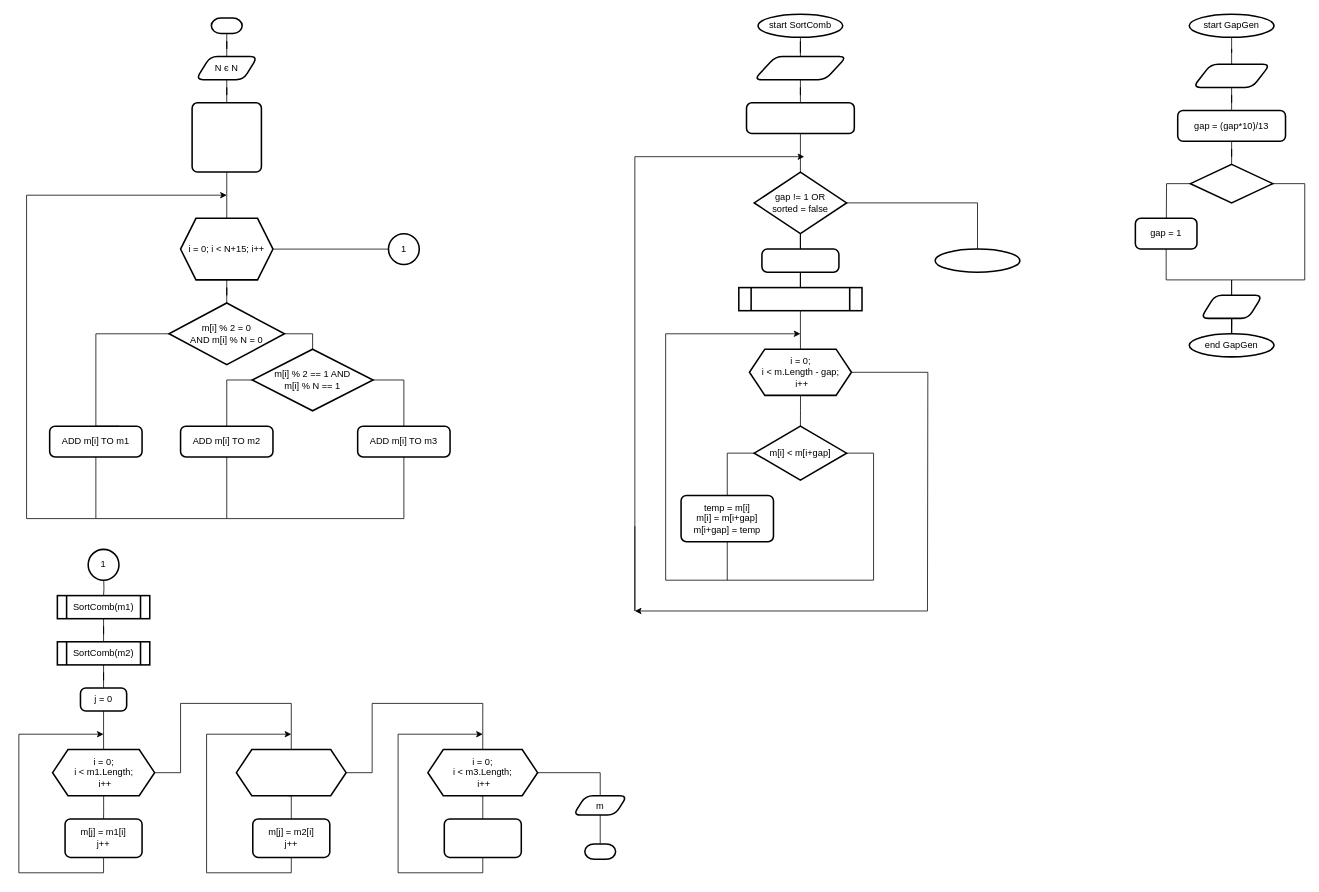
This 1319x892 diagram has some shape labels left out. The centre of each missing label's shape, as x and y in pixels:
end: point 600,851
end SortComb: point 977,260
gap: point 1231,306
gap < 1: point 1231,183
gap = GapGen(gap): point 800,298
gap є N: point 1231,75
i = 0; i < m2.Length; i++: point 290,772
int gap = m.Length bool sorted = false: point 800,118
int[N] m List<int> m1 List<int> m2 List<int> m3: point 226,137
List<int> m: point 800,67
m[j] = m3[i] j++: point 482,838
sorted = true: point 800,260
start: point 226,25
